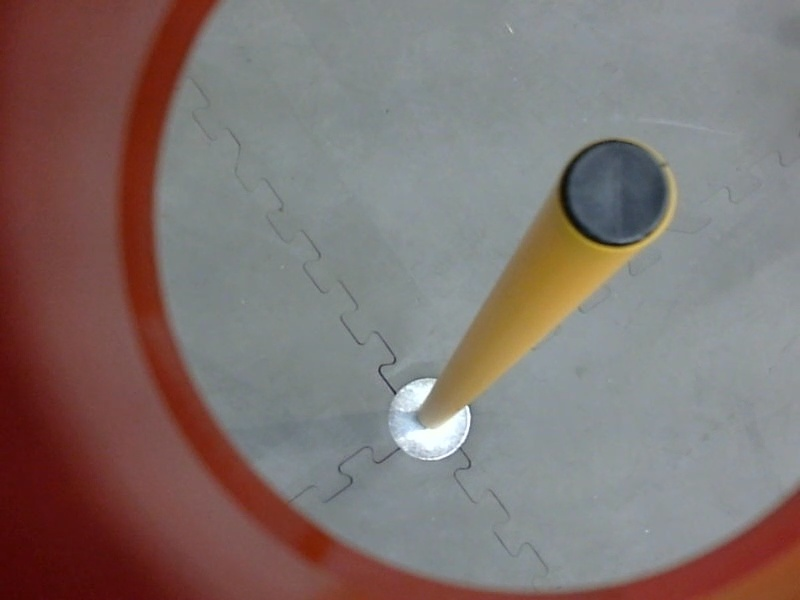tip: (549, 131, 687, 256)
